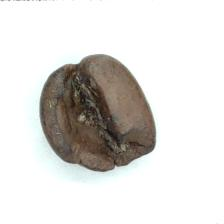NG: (59, 75, 125, 158)
